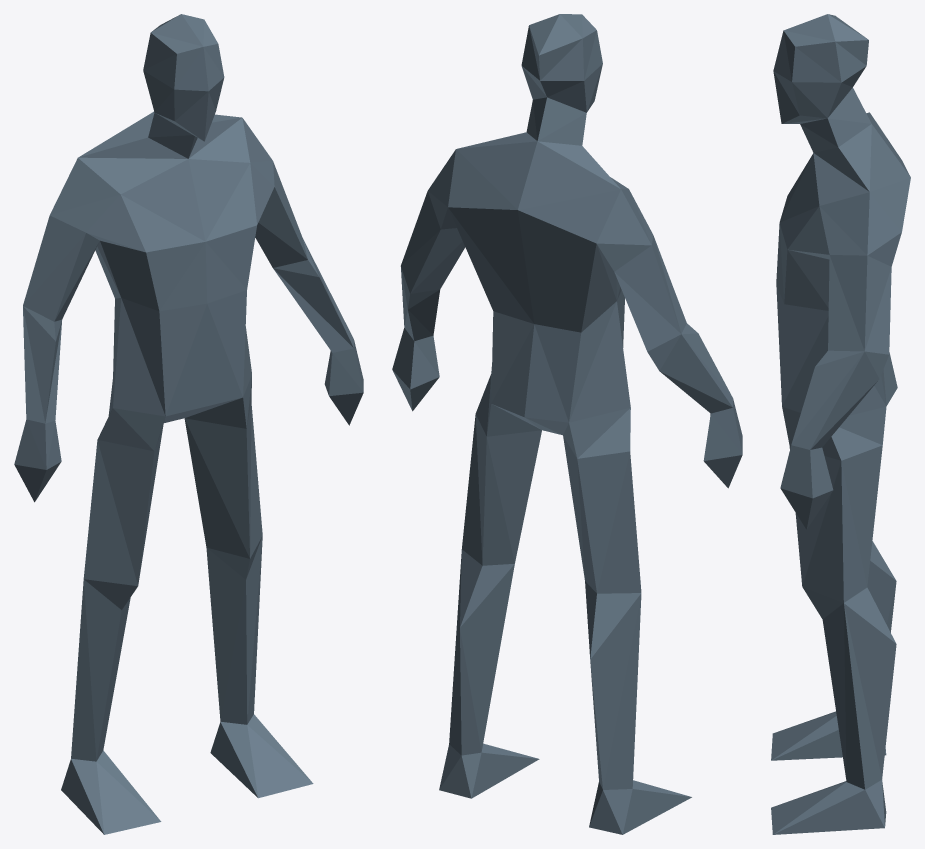
3 renders of one model, left to right at view 1: azimuth 30°, elevation 25°; view 2: azimuth 150°, elevation 25°; view 3: azimuth 270°, elevation 25°, orthographic.
Size of the model in its own units: 1.04 by 2.2 by 0.3622.
